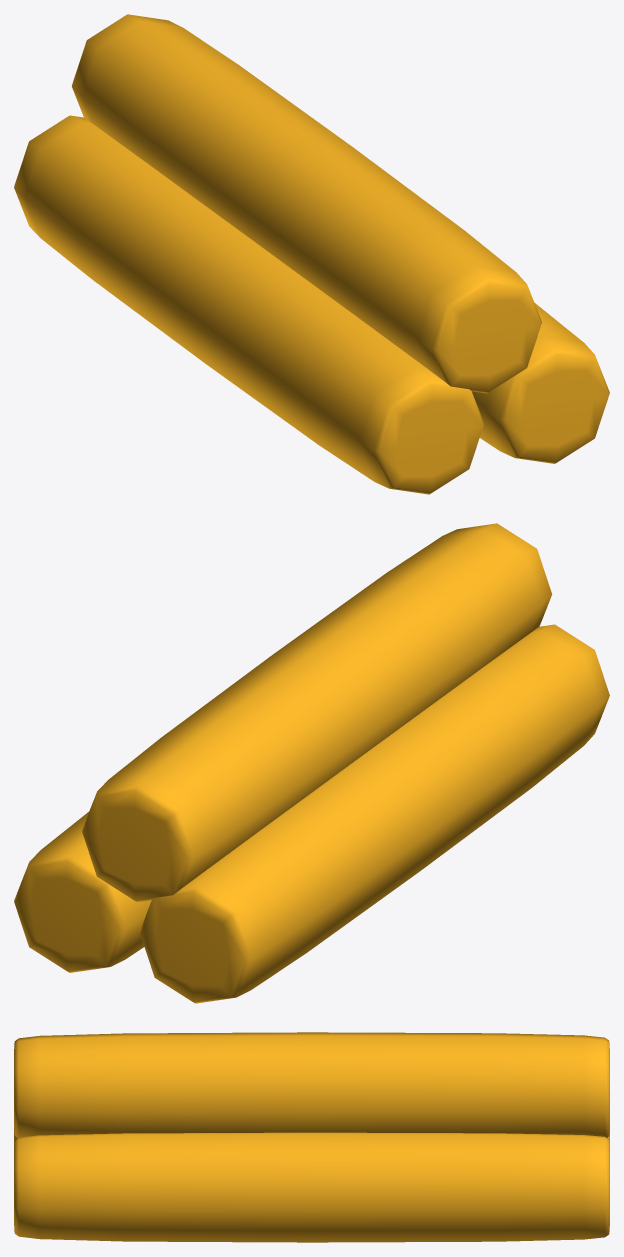
File: Wood_3.fbx
The picture shows the model from 3 angles, top to bottom: view 1: azimuth 30°, elevation 25°; view 2: azimuth 150°, elevation 25°; view 3: azimuth 270°, elevation 25°; orthographic projection. The views are drawn at different scales.
Visible parts, largest first — view 1: Wood_3_LP; view 2: Wood_3_LP; view 3: Wood_3_LP.
Part boxes in pixels (left/top/right/bottom): Wood_3_LP: left=14, top=14, right=609, bottom=494; Wood_3_LP: left=14, top=523, right=609, bottom=1003; Wood_3_LP: left=14, top=1032, right=609, bottom=1242.
Size of the model in its own units: 94.81 by 78.64 by 241.
Materials: 1 (1 with a texture image).
